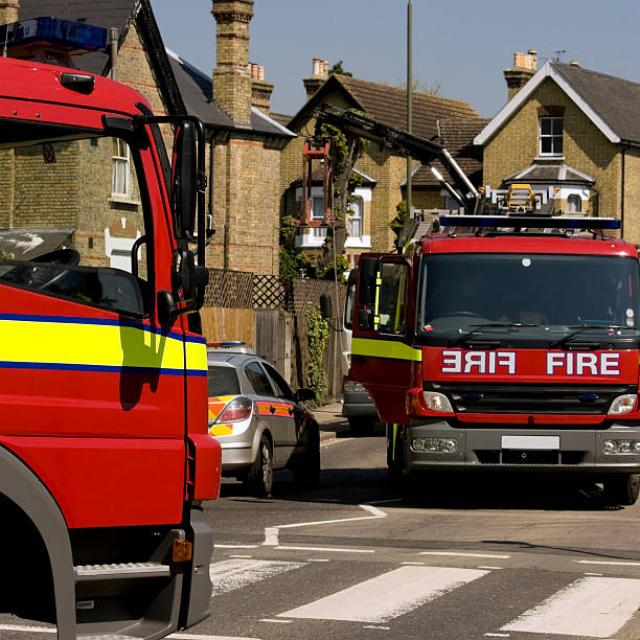car: (209, 349, 319, 496)
emergency: (350, 185, 640, 504)
